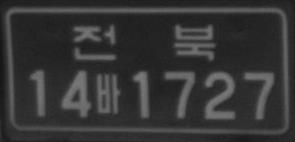1: (23, 68, 54, 117), (128, 69, 158, 118)
2: (203, 70, 236, 120)
4: (61, 69, 91, 118)
7: (164, 69, 196, 119), (243, 70, 275, 120)
바: (95, 72, 121, 114)
전북_D: (72, 23, 216, 61)
